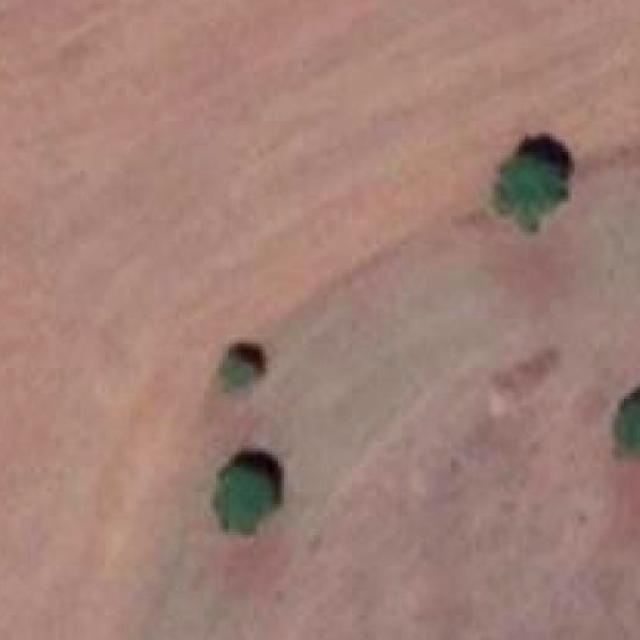Tree: (491, 152, 562, 232), (212, 463, 274, 535), (212, 350, 255, 399), (609, 402, 640, 457)
